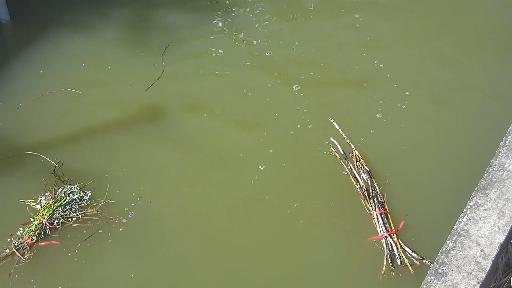twig: (342, 125, 470, 286), (0, 148, 154, 264), (0, 75, 99, 181), (118, 38, 187, 106)
